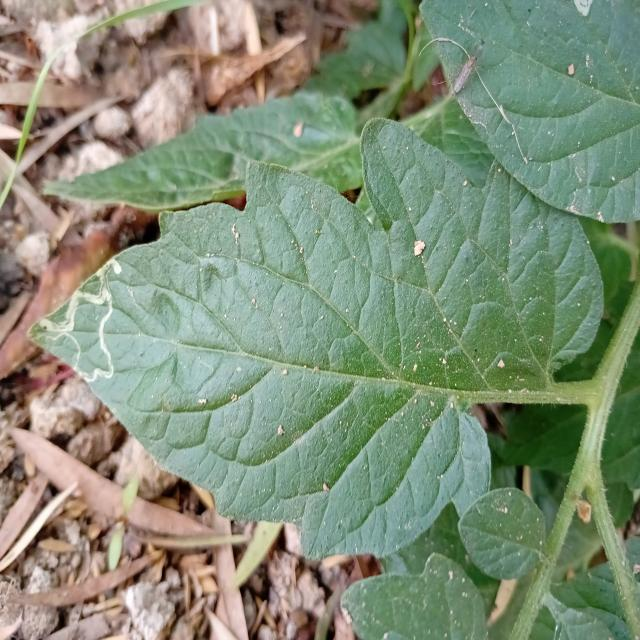Tuta absoluta: (34, 257, 172, 393)
